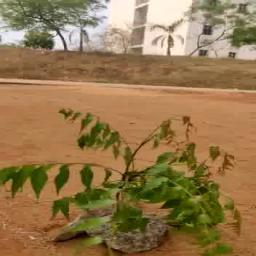Azadiractha Indica: (24, 113, 236, 223)
